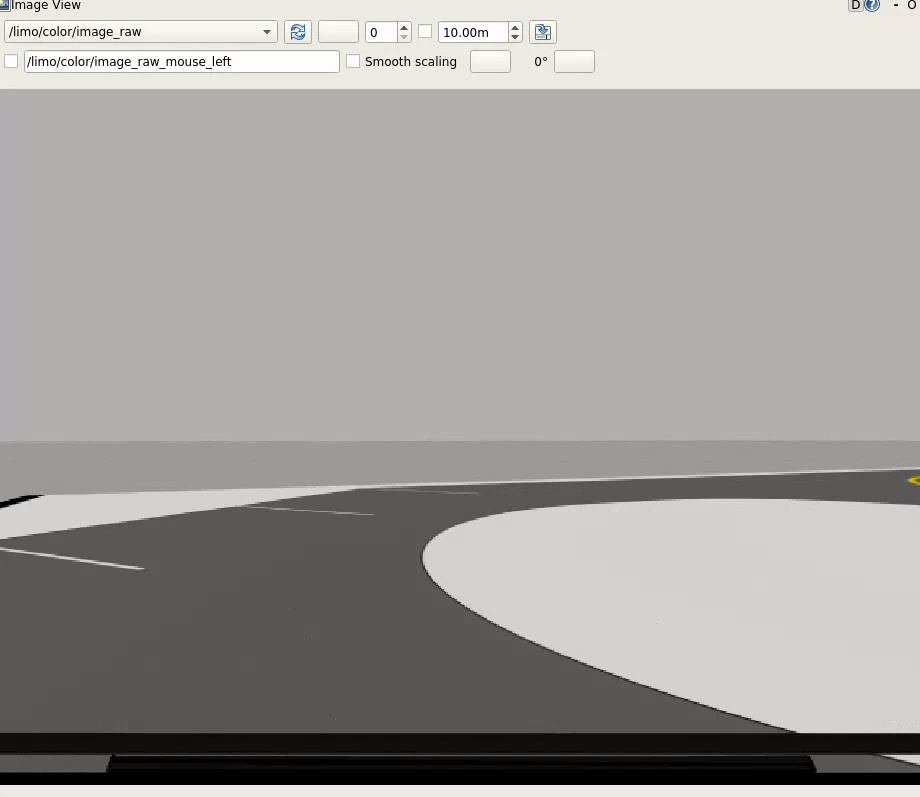Parking: (0, 505, 371, 571), (241, 489, 475, 514)
Solid: (909, 475, 919, 485)
Street: (0, 471, 919, 732)
